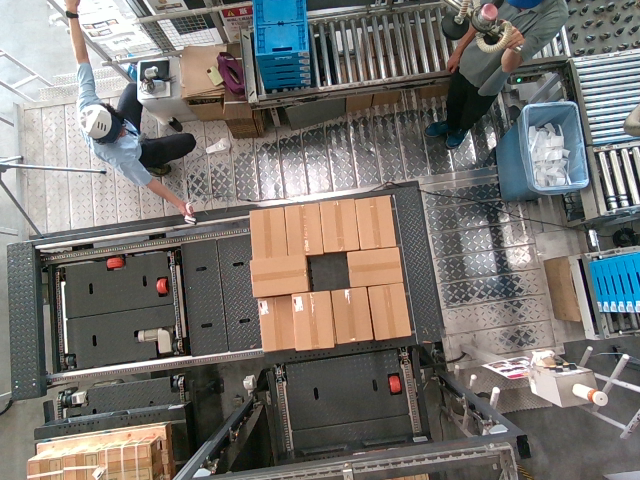box: (291, 293, 331, 349), (330, 289, 373, 341), (368, 285, 410, 338), (253, 255, 304, 296), (247, 210, 287, 258), (319, 200, 359, 248), (283, 204, 322, 253), (255, 300, 293, 350), (355, 198, 396, 244), (350, 247, 397, 287)
